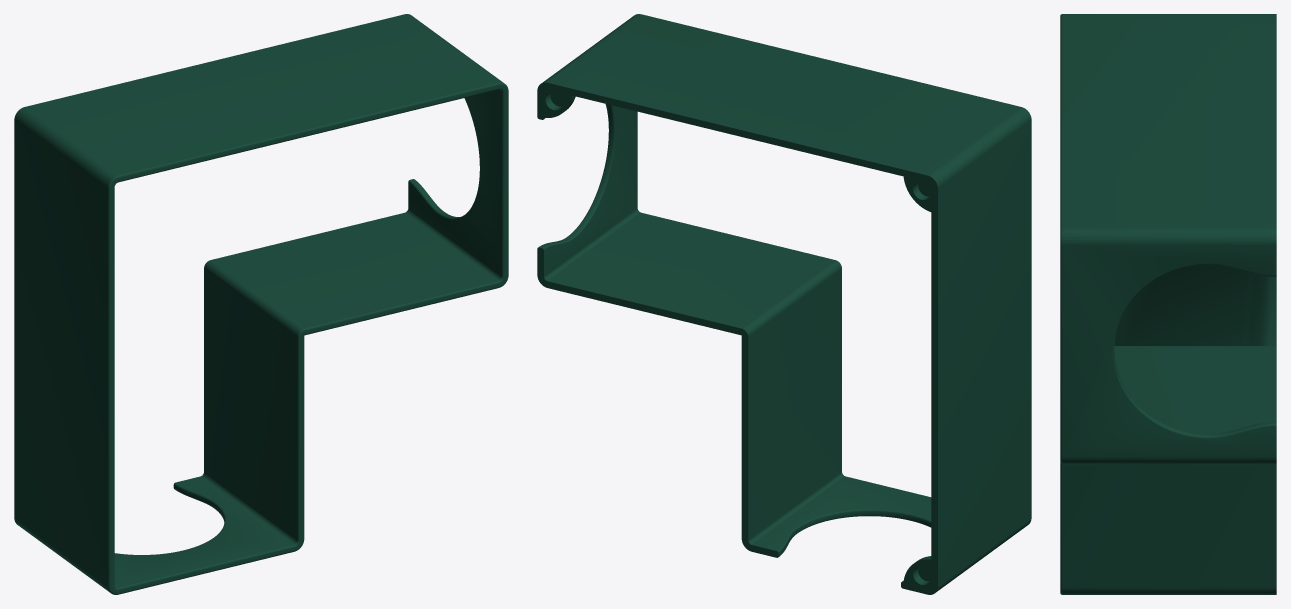
Rendered from LHB.glb.
The picture shows the model from 3 angles, left to right: view 1: azimuth 30°, elevation 25°; view 2: azimuth 150°, elevation 25°; view 3: azimuth 270°, elevation 25°; orthographic projection. The views are drawn at different scales.
Visible parts, largest first — view 1: LHB_PineGreen; view 2: LHB_PineGreen; view 3: LHB_PineGreen.
Part boxes in pixels (x1=…): LHB_PineGreen: x1=14, y1=14, x2=508, y2=594; LHB_PineGreen: x1=537, y1=14, x2=1031, y2=594; LHB_PineGreen: x1=1060, y1=14, x2=1276, y2=594.
Size of the model in its own units: 196 by 196 by 80.
